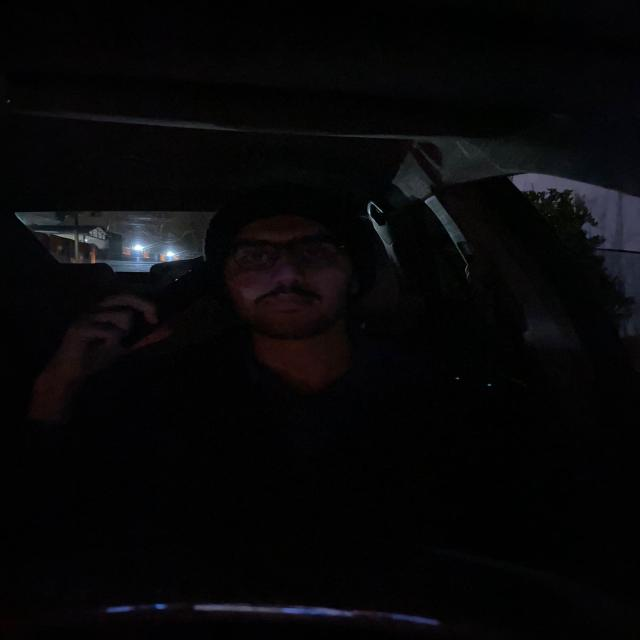phone: (113, 260, 220, 350)
